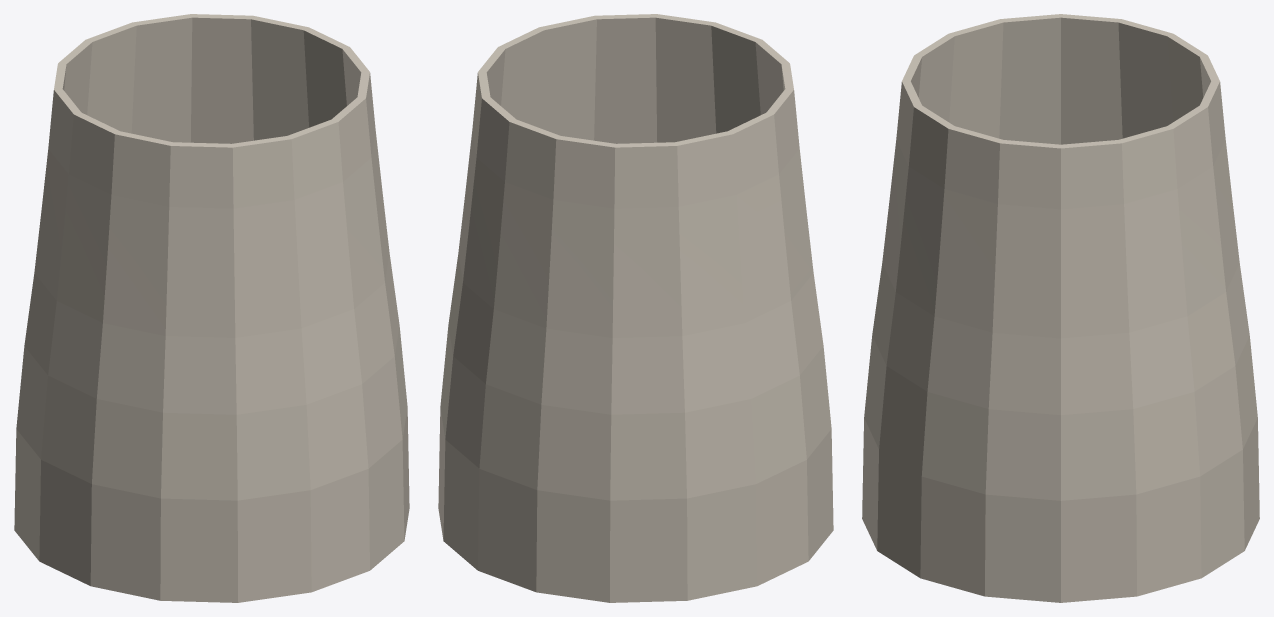
Rendered from Cup2.fbx.
The picture shows the model from 3 angles, left to right: view 1: azimuth 30°, elevation 25°; view 2: azimuth 150°, elevation 25°; view 3: azimuth 270°, elevation 25°; orthographic projection.
Parts seen in each view (by area): view 1: Cup2; view 2: Cup2; view 3: Cup2.
Part boxes in pixels (x1,y1,x2,y2): Cup2: (14, 14, 409, 602); Cup2: (438, 14, 833, 602); Cup2: (862, 14, 1259, 602).
Bounding box in the file's own units: 9.48 × 11.52 × 9.48.
1 material, 1 textured.
